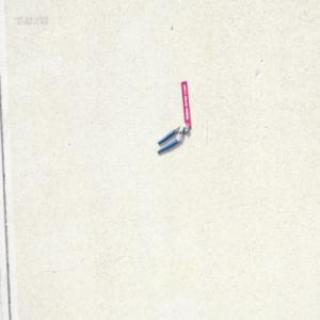LuggageTagtrack_idkeyframe: (180, 78, 190, 127)
Pliertrack_idkeyframe: (156, 121, 188, 153)
